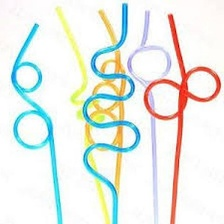drinking_straw: (140, 6, 224, 223), (5, 16, 66, 224)
